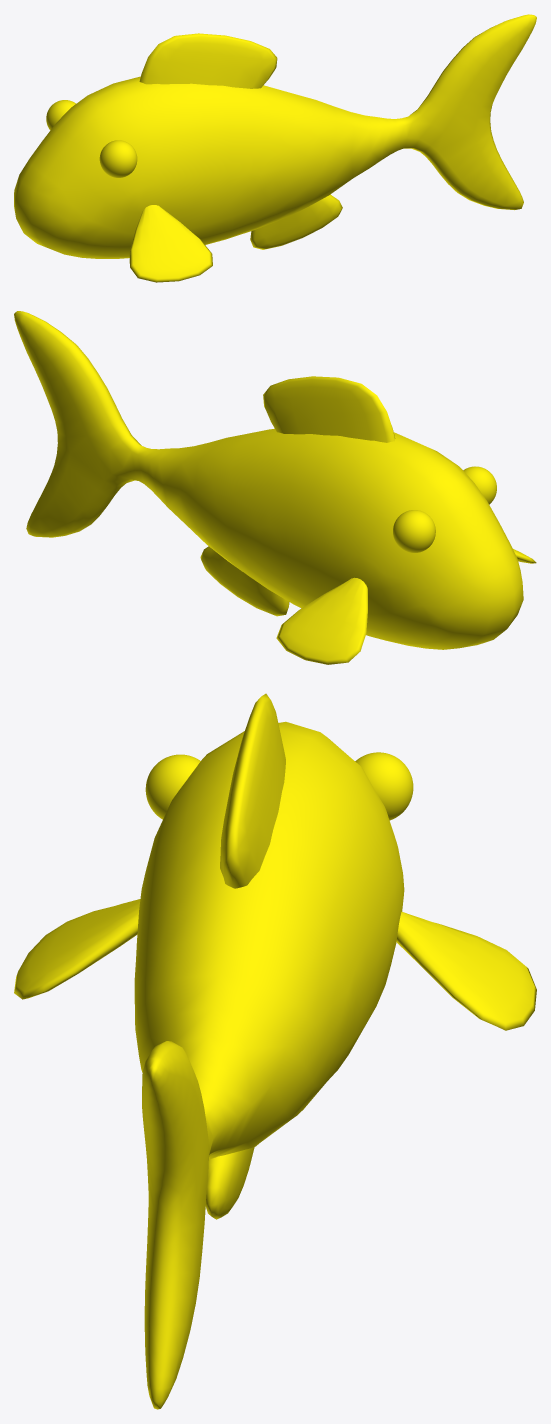
Rendered from poisson3 - Copie.glb.
The picture shows the model from 3 angles, top to bottom: view 1: azimuth 30°, elevation 25°; view 2: azimuth 150°, elevation 25°; view 3: azimuth 270°, elevation 25°; orthographic projection. The views are drawn at different scales.
Parts seen in each view (by area): view 1: mesh_id27, mesh_id53, mesh_id59; view 2: mesh_id27, mesh_id59, mesh_id53; view 3: mesh_id27, mesh_id59, mesh_id53.
Part boxes in pixels (<box>): mesh_id27: <box>14,14,536,282</box>; mesh_id53: <box>99,140,137,177</box>; mesh_id59: <box>46,100,75,130</box>; mesh_id27: <box>14,311,536,664</box>; mesh_id59: <box>393,510,435,552</box>; mesh_id53: <box>463,466,496,504</box>; mesh_id27: <box>14,693,536,1409</box>; mesh_id59: <box>355,752,413,820</box>; mesh_id53: <box>145,754,200,819</box>.
Bounding box in the file's own units: 0.4339 × 0.1993 × 0.2215.
3 materials, 3 textured.
